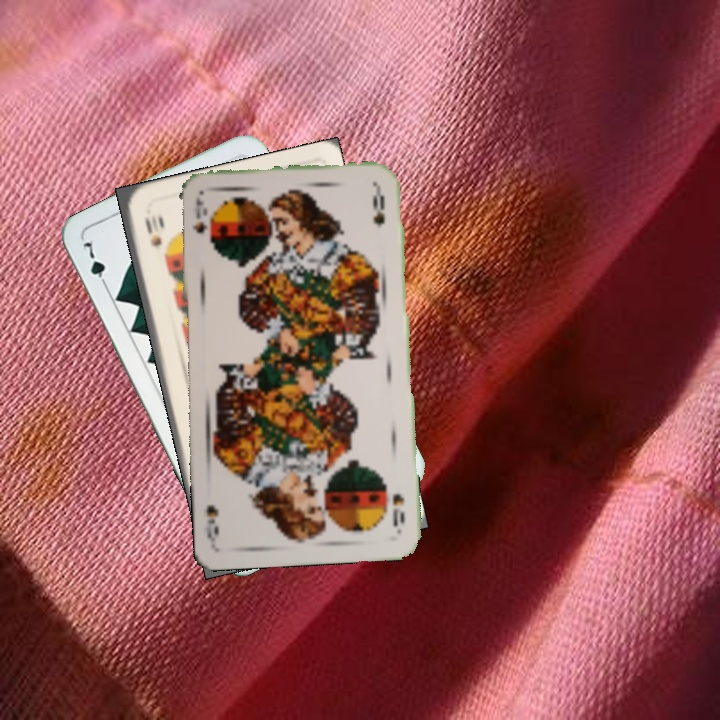G7: (79, 237, 112, 293)
S10: (140, 211, 163, 252)
SO: (188, 195, 210, 236), (388, 489, 407, 534)
